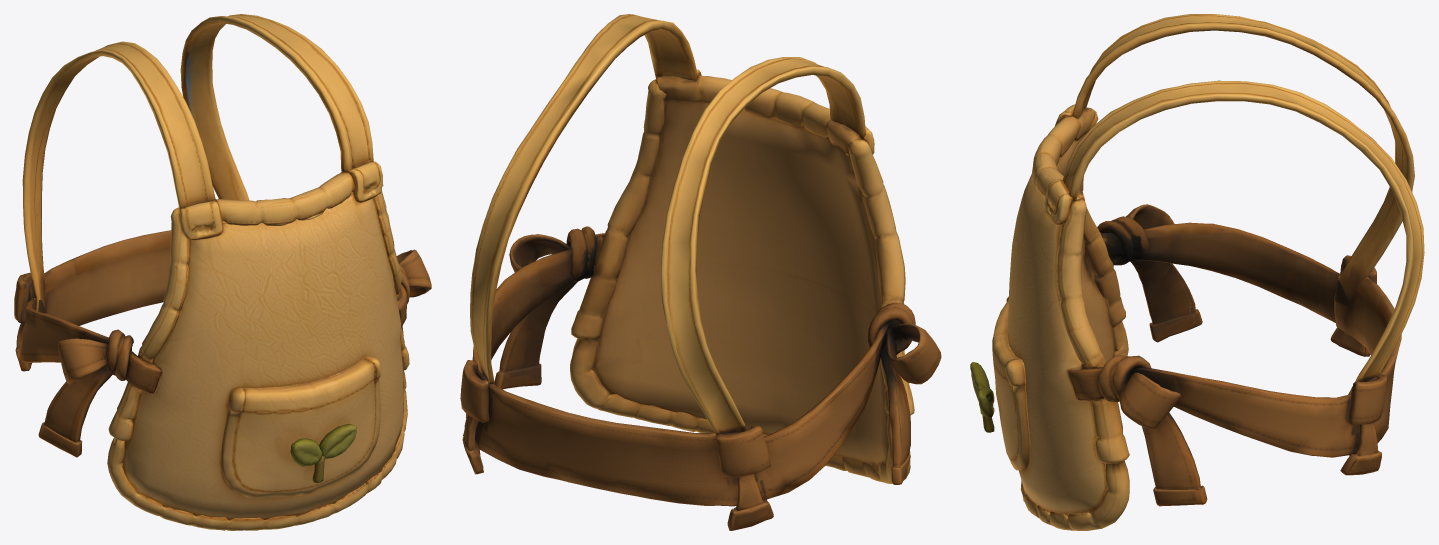
File: mem_ac_apronyellow.fbx
3 views of the same model, side by side, from view 1: azimuth 30°, elevation 25°; view 2: azimuth 150°, elevation 25°; view 3: azimuth 270°, elevation 25° (orthographic). The views are drawn at different scales.
Parts seen in each view (by area): view 1: tripo_node_003c079a-e388-45d7-9400-3d7a46381771; view 2: tripo_node_003c079a-e388-45d7-9400-3d7a46381771; view 3: tripo_node_003c079a-e388-45d7-9400-3d7a46381771.
Part boxes in pixels (x1,y1,x2,y2): tripo_node_003c079a-e388-45d7-9400-3d7a46381771: (14, 14, 431, 530); tripo_node_003c079a-e388-45d7-9400-3d7a46381771: (460, 14, 941, 530); tripo_node_003c079a-e388-45d7-9400-3d7a46381771: (970, 14, 1424, 530).
Size of the model in its own units: 0.9121 by 0.998 by 0.9355.
Materials: 1 (1 with a texture image).
